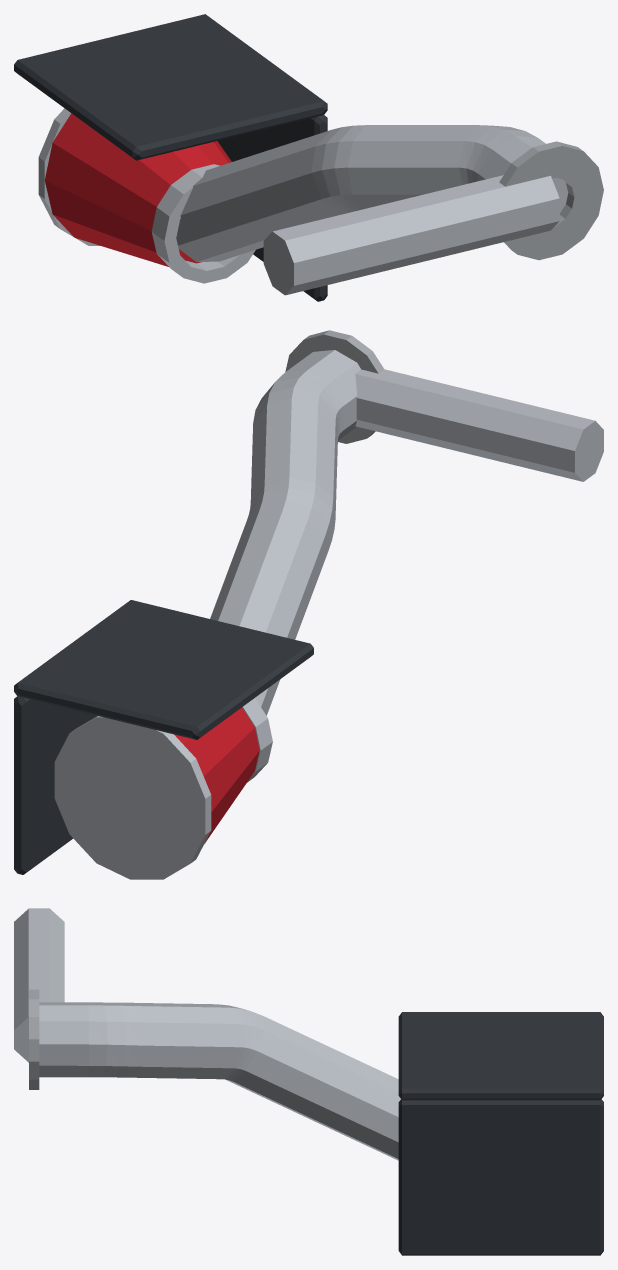
File: kaze_gt.glb
3 views of the same model, one above another, from view 1: azimuth 30°, elevation 25°; view 2: azimuth 150°, elevation 25°; view 3: azimuth 270°, elevation 25° (orthographic). The views are drawn at different scales.
Parts seen in each view (by area): view 1: model; view 2: model; view 3: model.
Part boxes in pixels (bbox=[...]): model: bbox=[14, 14, 603, 301]; model: bbox=[14, 330, 603, 879]; model: bbox=[14, 908, 603, 1255].
Bounding box in the file's own units: 0.3601 × 0.3386 × 0.6896.
2 materials, 1 textured.
